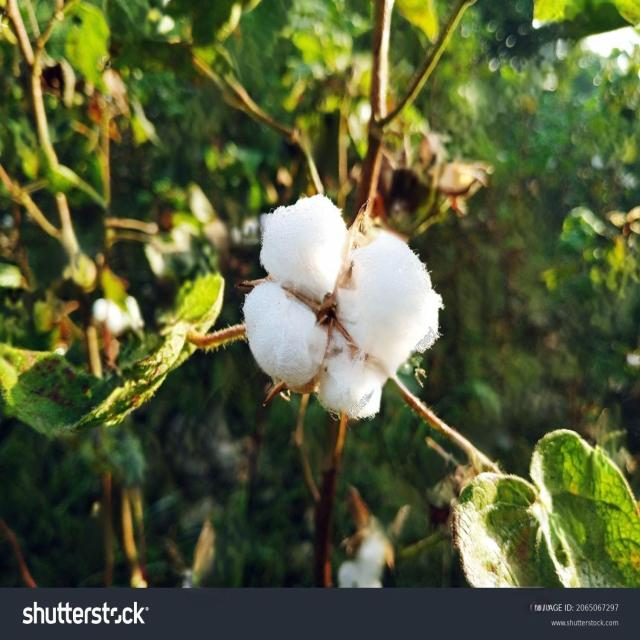Leaf: (233, 177, 449, 438)
